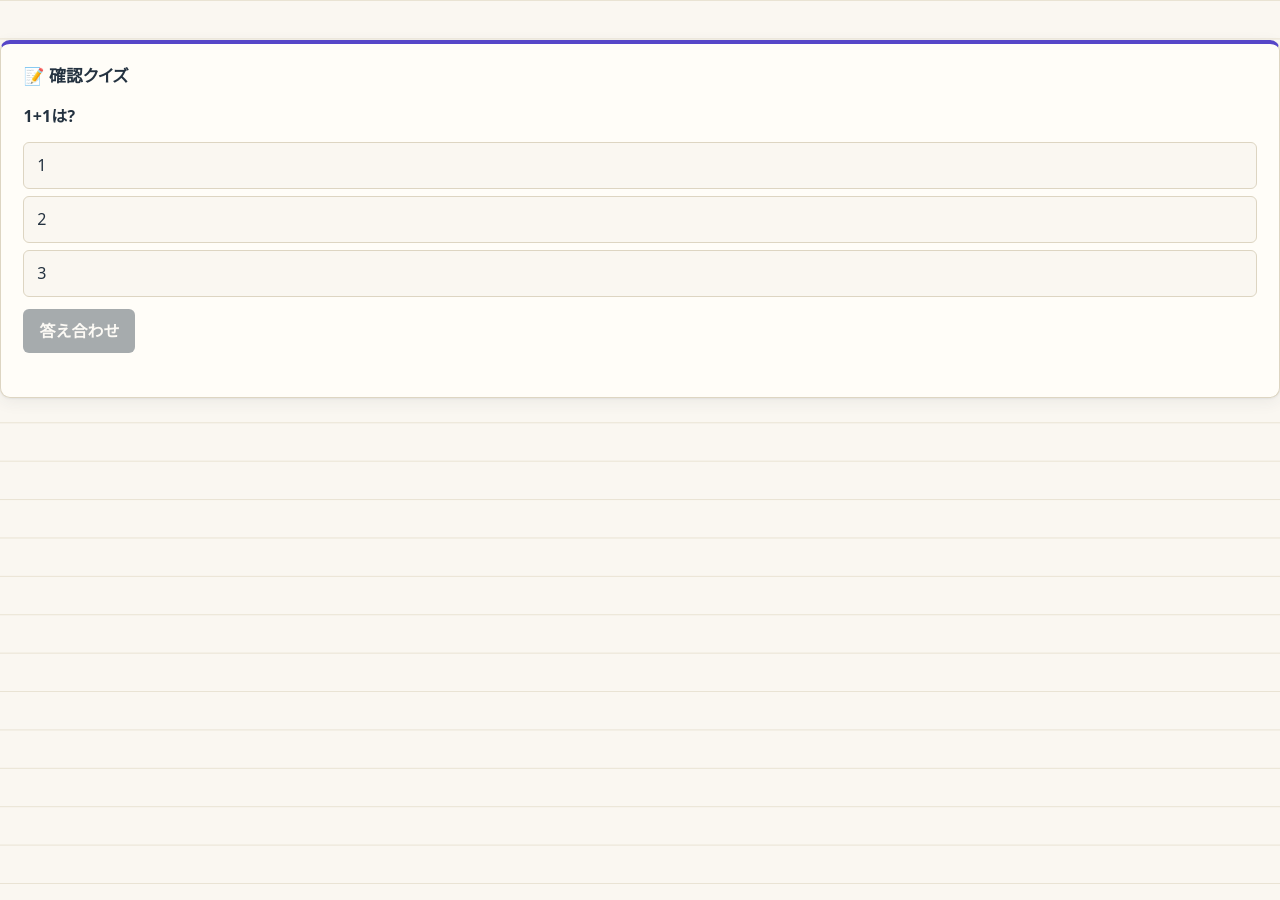
Scenario: QuizBlock › single choice: picking the right answer and checking shows correct
The image size is (1280, 900).
Click the button "2": x=42, y=219 [23,196,1257,243]
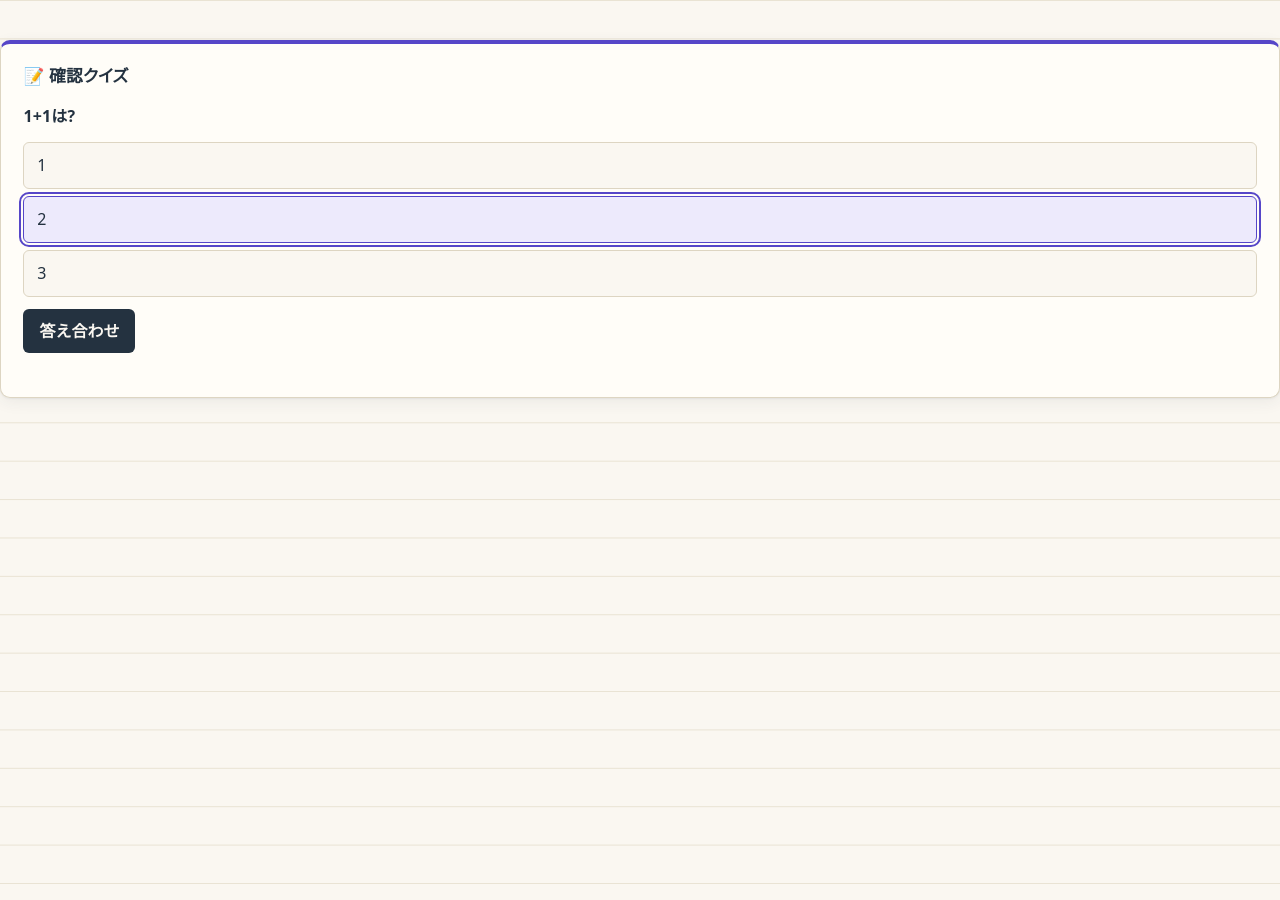
Click the button "答え合わせ": x=79, y=331 [23,309,135,353]
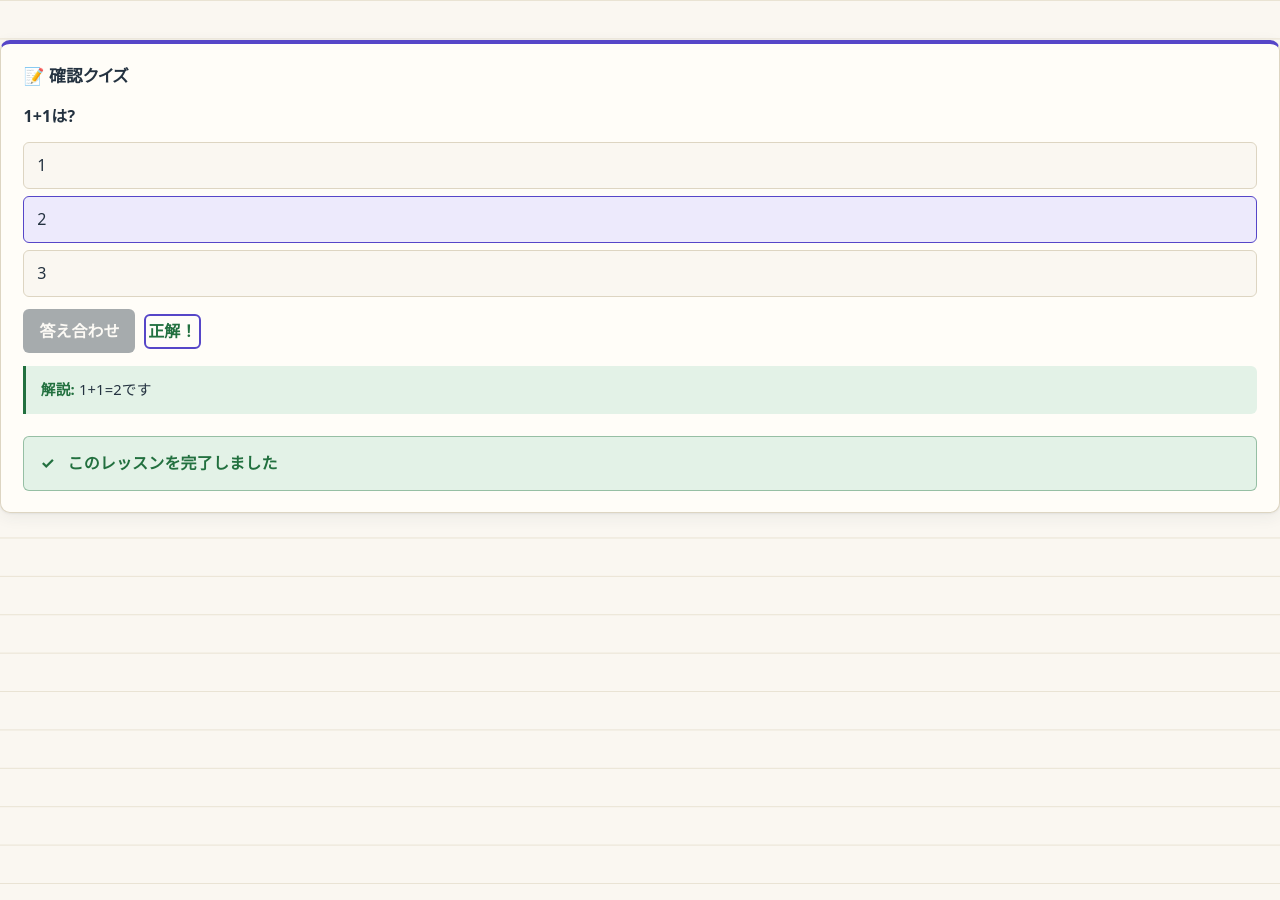
Now the text "正解！" is shown, box [148,318,197,345]
Now the text "解説: 1+1=2です" is shown, box [23,366,1257,414]
